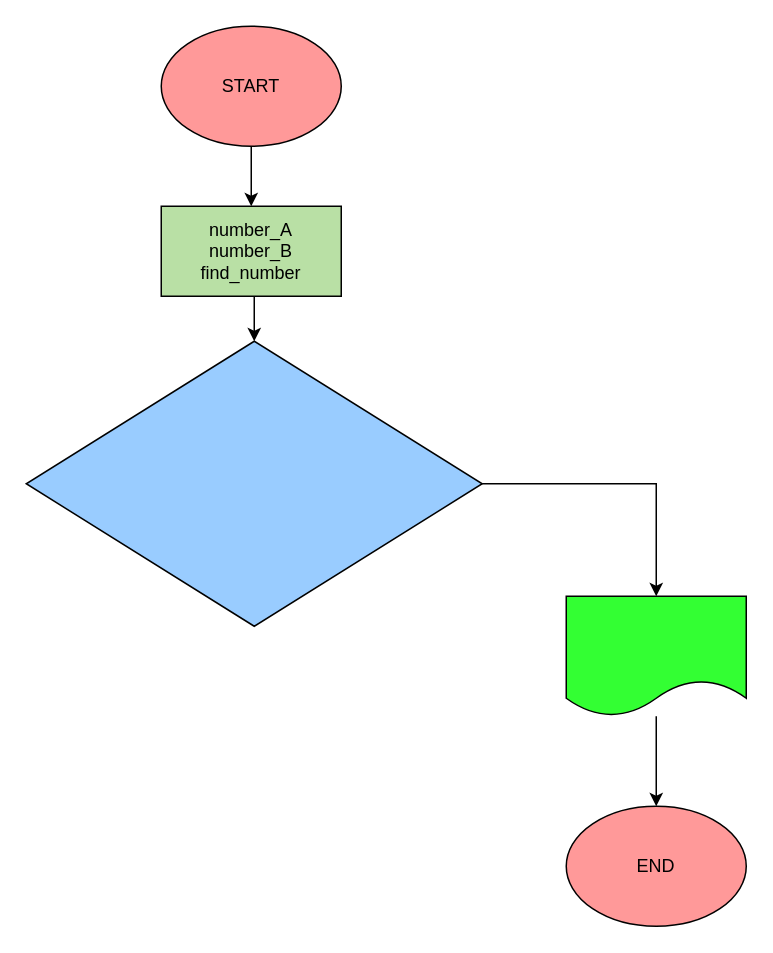
Some shapes in this 773 by 953 pixel diagram are drawn without their labels. The box of each missing label's shape, as (x1, y1, x2, y2) in pixels:
find_number = Math.Pow(number_A, number_B): (25, 340, 482, 626)
print find_number: (565, 595, 746, 716)
